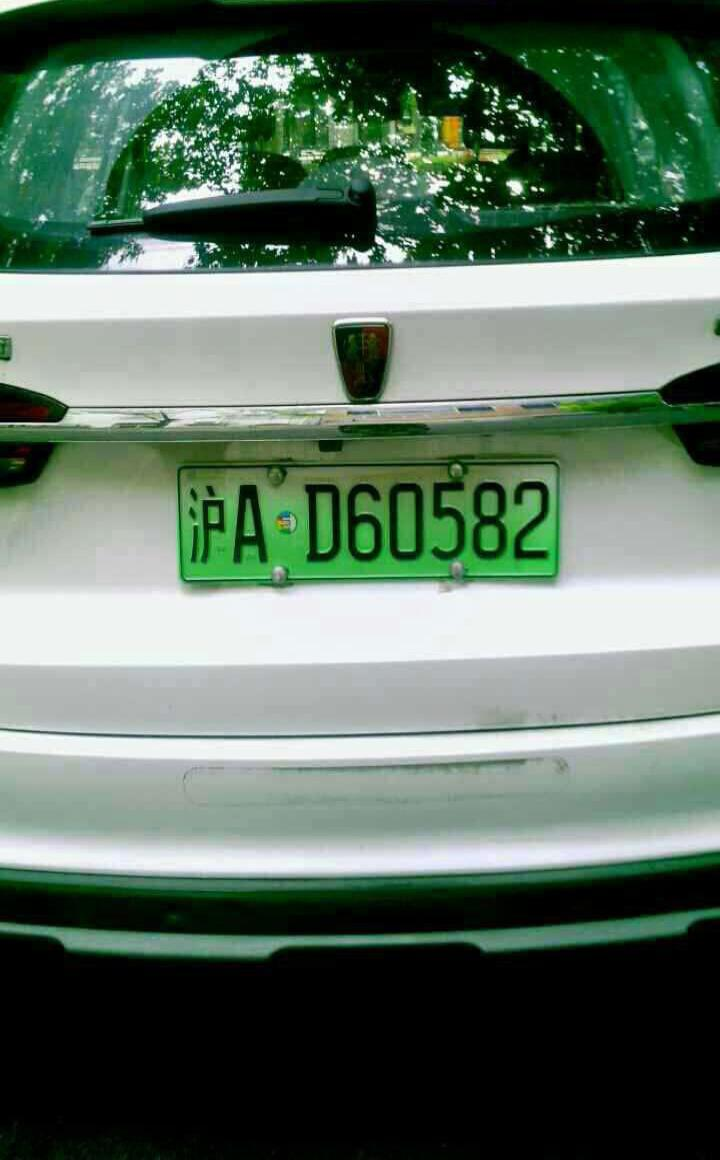car_id: (173, 461, 558, 576)
